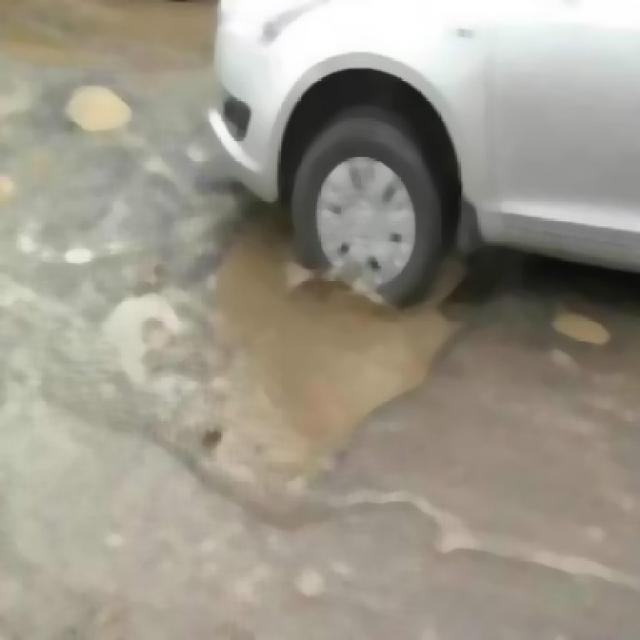Pothole: (201, 206, 401, 472)
